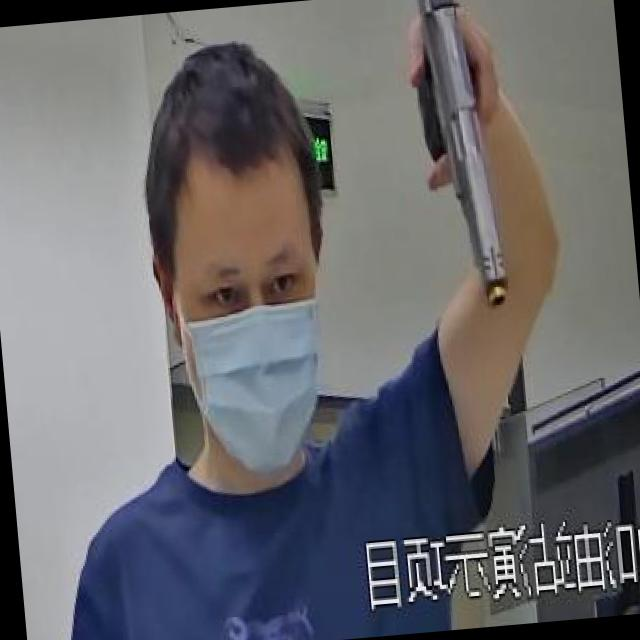Guns: (373, 0, 529, 339)
